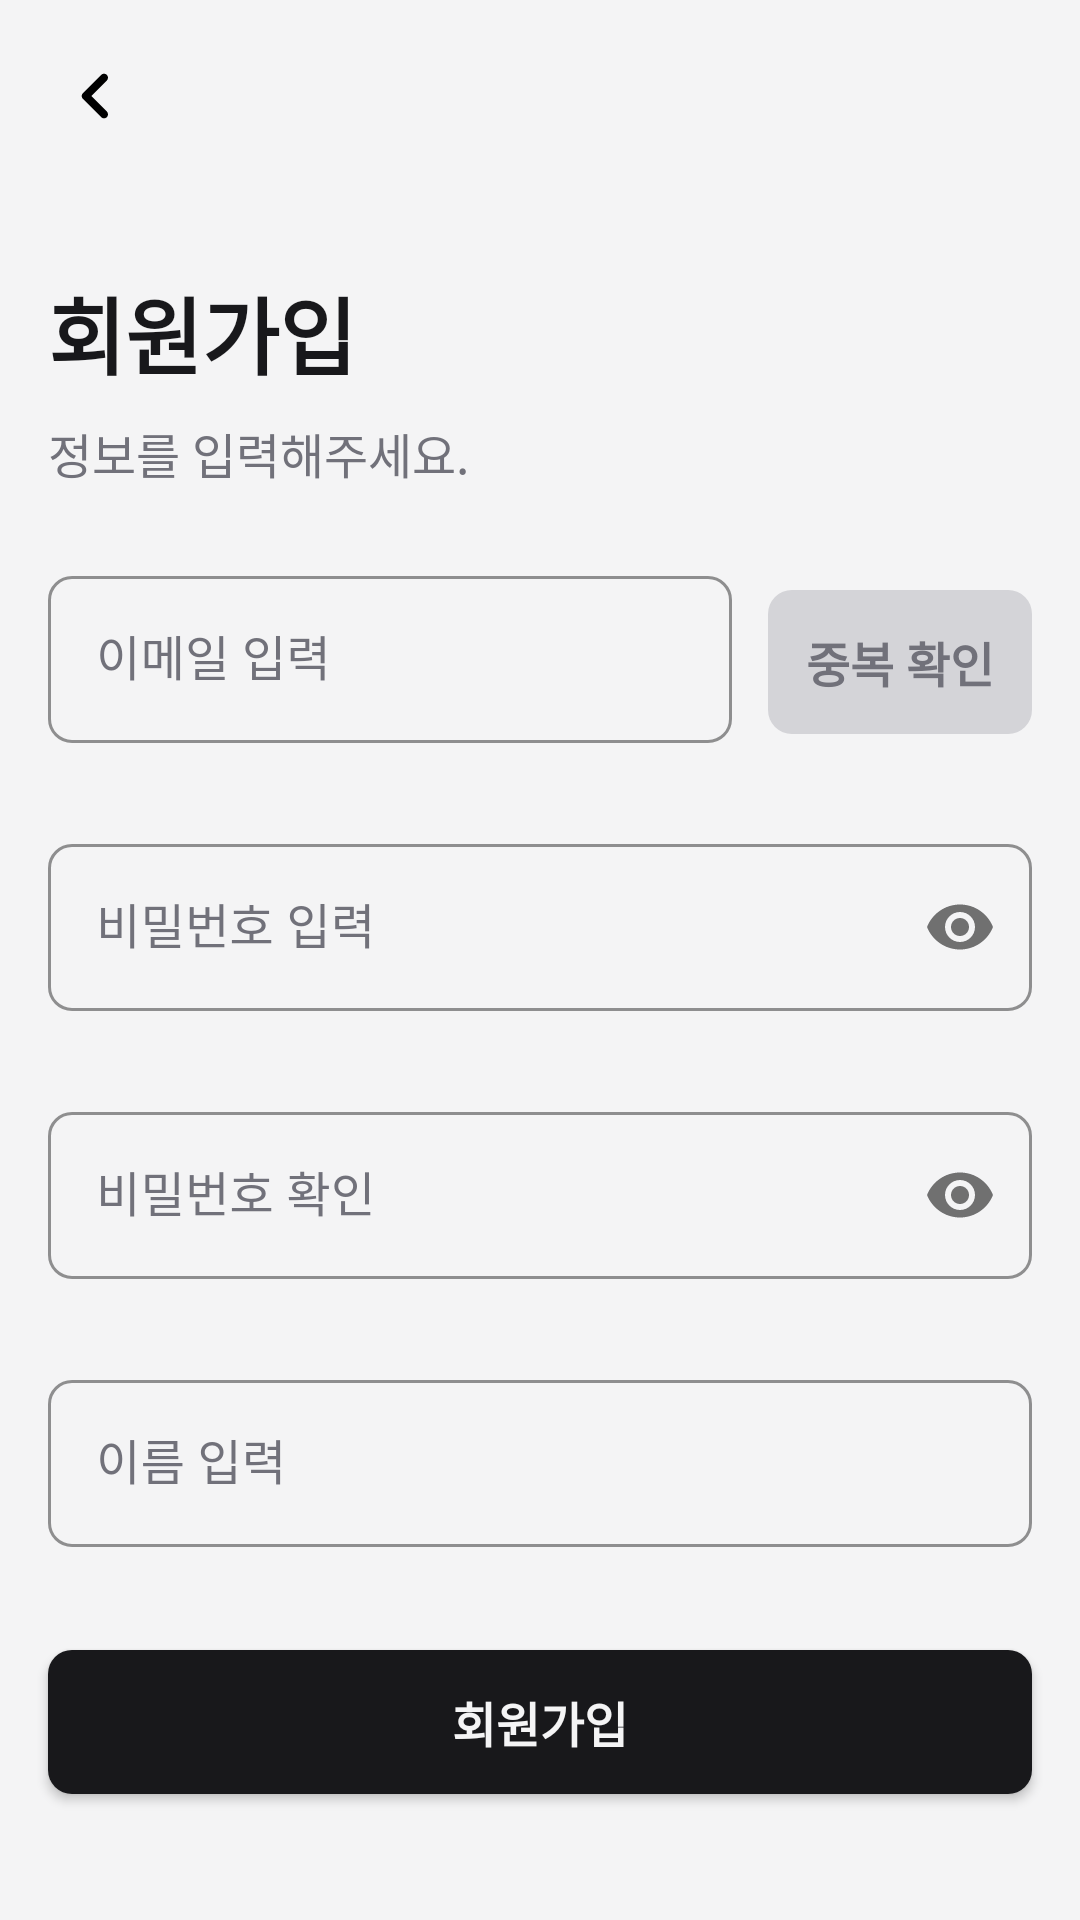

Screen size 1080*1920. Icon name, then its box in pixels as [x1,y1,x2,y2]:
이전으로: [81,73,108,119]
